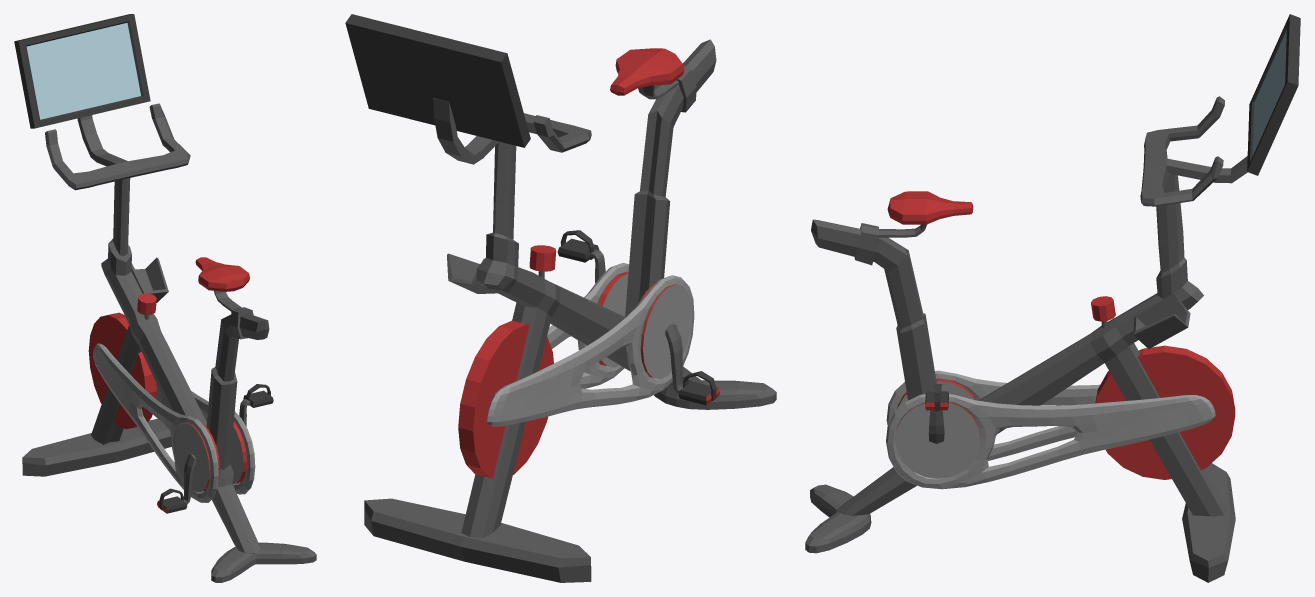
Rendered from Peloton_2.fbx.
The picture shows the model from 3 angles, left to right: view 1: azimuth 30°, elevation 25°; view 2: azimuth 150°, elevation 25°; view 3: azimuth 270°, elevation 25°; orthographic projection. The views are drawn at different scales.
Parts seen in each view (by area): view 1: Peloton_2; view 2: Peloton_2; view 3: Peloton_2.
Part boxes in pixels (x1,y1,x2,y2): Peloton_2: (14, 14, 316, 582); Peloton_2: (345, 14, 776, 582); Peloton_2: (805, 14, 1300, 582).
Bounding box in the file's own units: 105 × 223 × 242.
